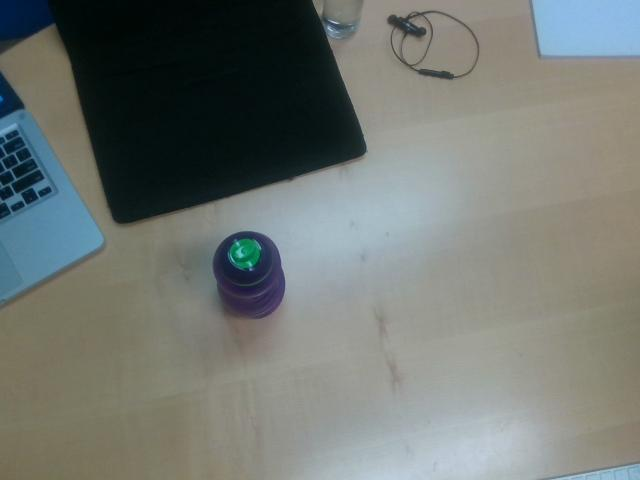bottle: (213, 231, 286, 319)
